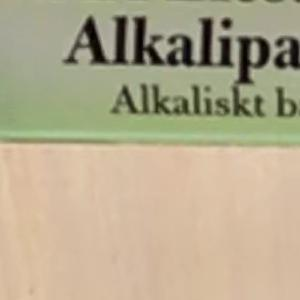keyword: (53, 5, 139, 75)
